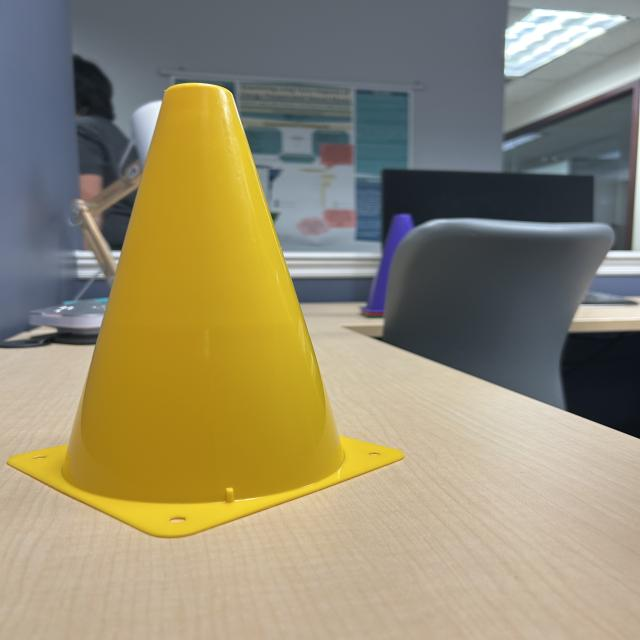yellow cone: (7, 78, 408, 546)
